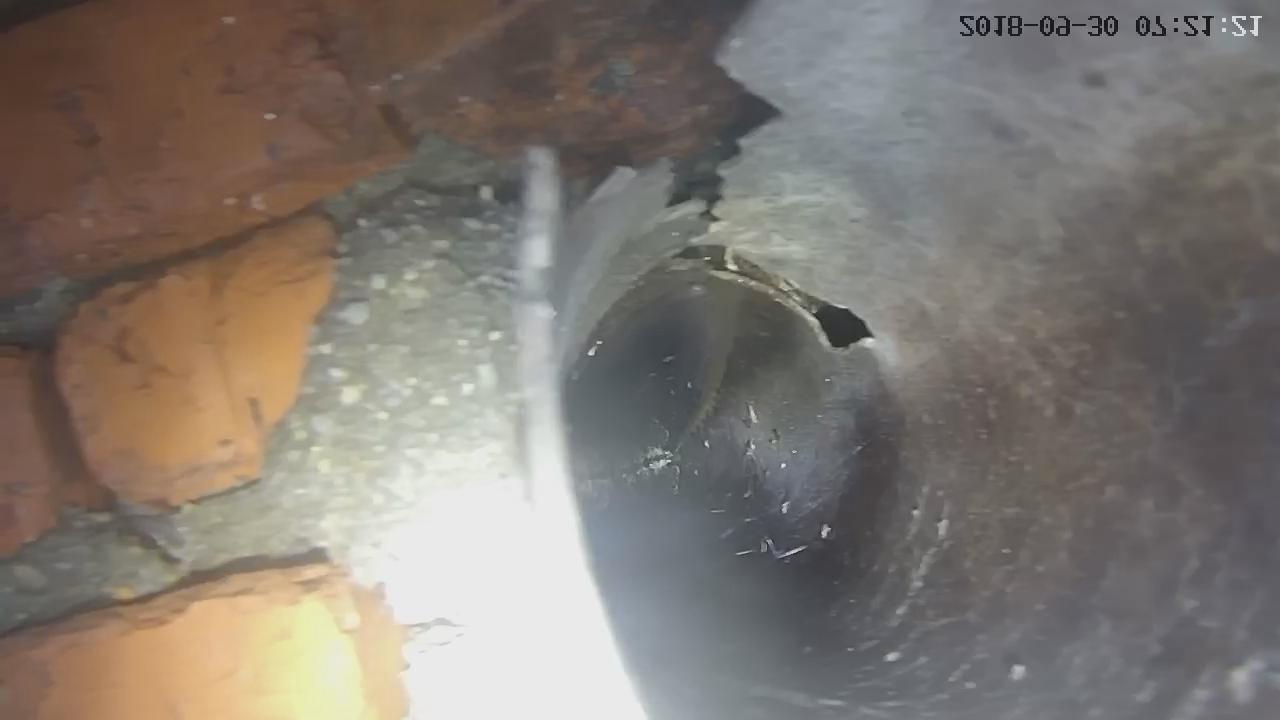PL: (676, 247, 873, 349)
